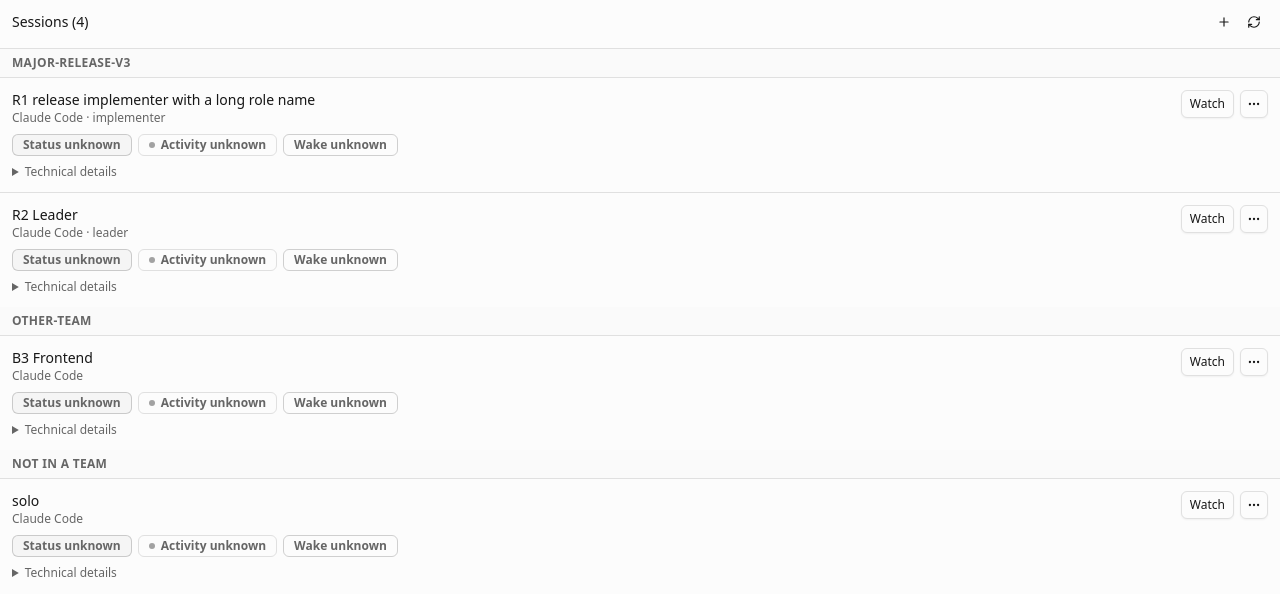
Test: SessionList › keeps Kill out of the row until the menu opens, and asks through the kill dialog
Expected: the button "Kill" is not shown
Expected: the menu item "Kill session…" is not shown
What coordinates should you click on to do the following:
click the button named "More actions for R2 Leader"
I would click on:
 (1254, 219)
Its box is [1240,205,1268,233].
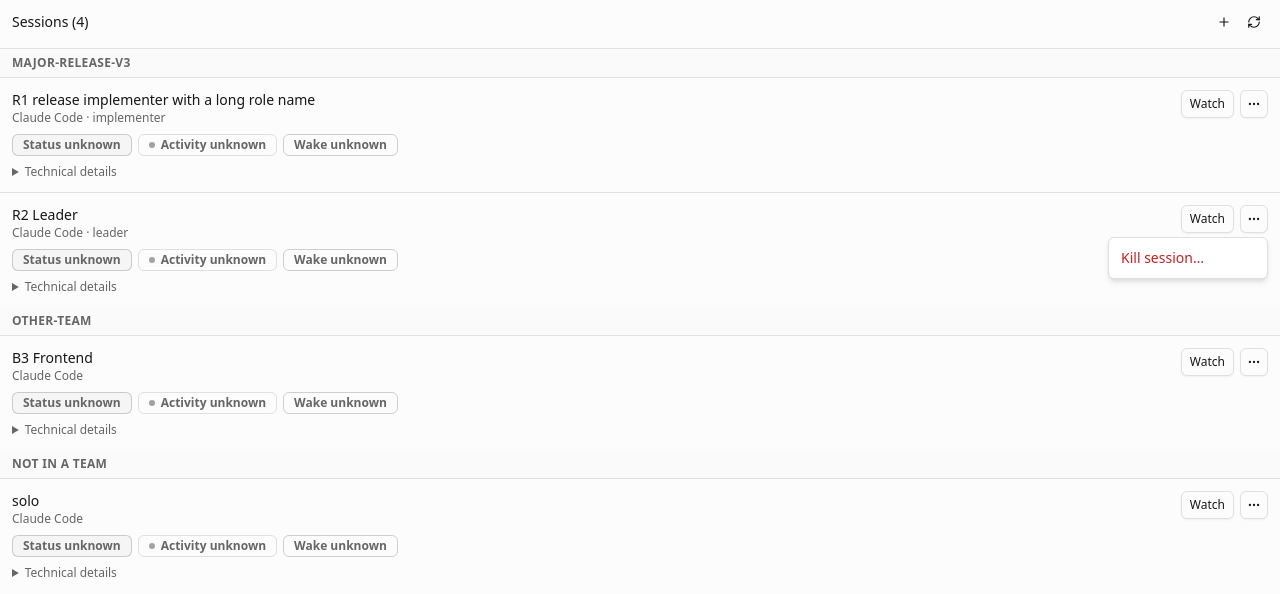
What coordinates should you click on to do the following:
click the menu item "Kill session…"
I would click on:
 (1188, 258)
Its box is [1113,242,1263,274].
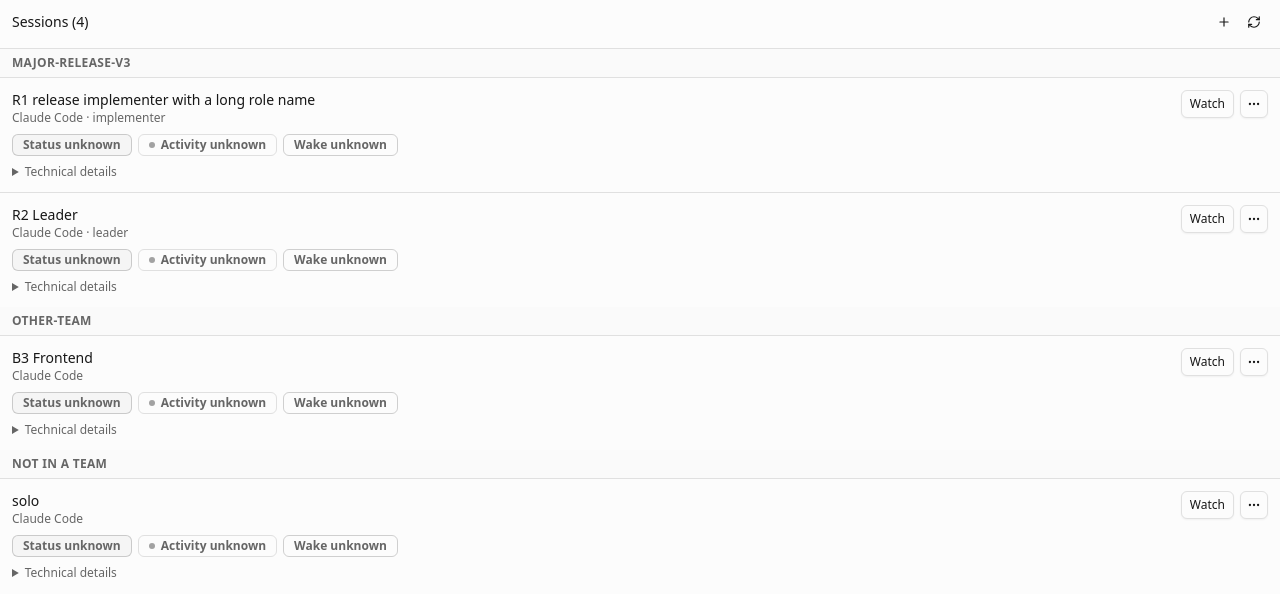
Expected: the menu item "Kill session…" is gone
